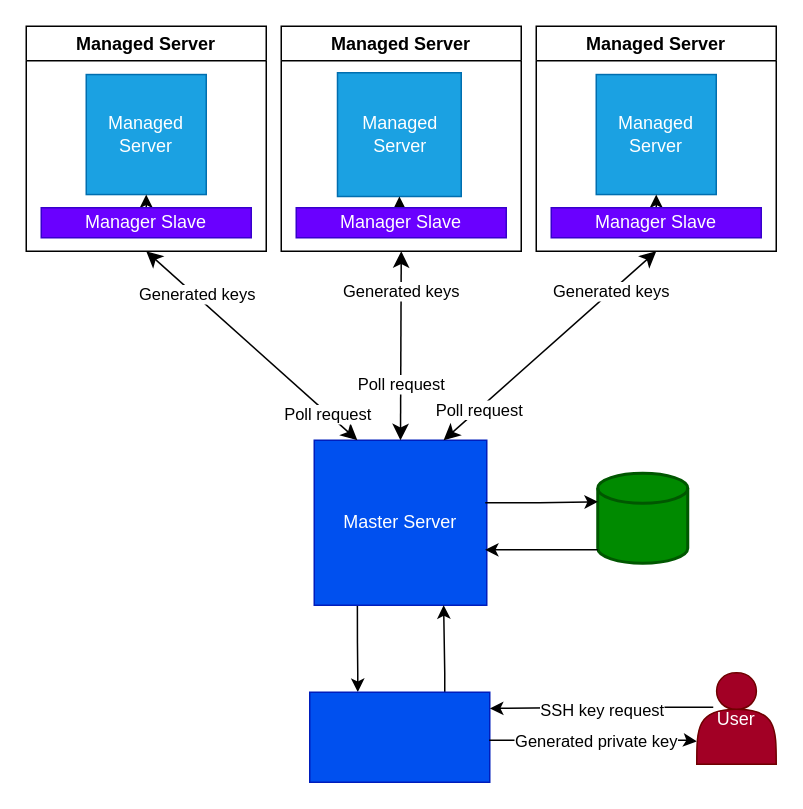
Image size: 803x809. Some labels were removed from this diagram. The centre of each missing label's shape, as x and y in pixels:
"SQLite Database" belongs at point (642, 517).
"SSR Self-Service Console" belongs at point (399, 736).
